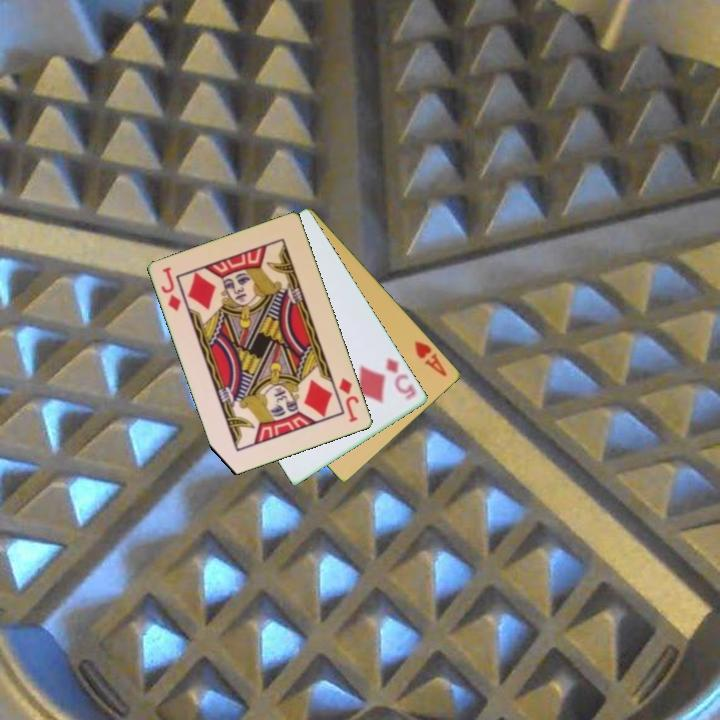5d: (383, 354, 419, 403)
Ah: (411, 337, 450, 380)
Jd: (158, 263, 185, 314), (336, 374, 362, 425)
